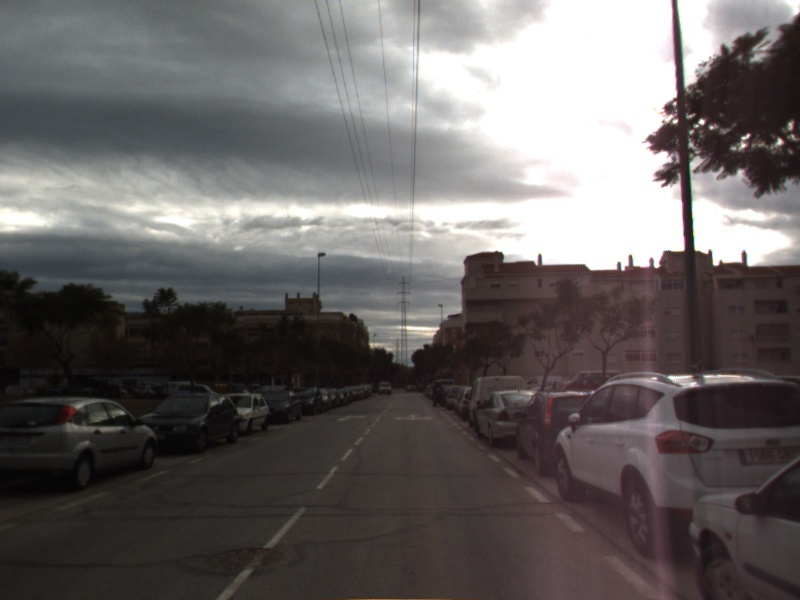STRAIGHT_LEFT_RIGHT: (392, 411, 435, 423)
